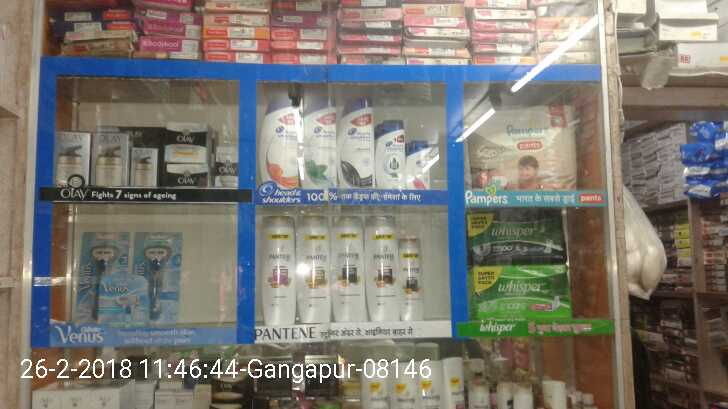venus: (129, 231, 184, 333), (78, 226, 127, 325)
